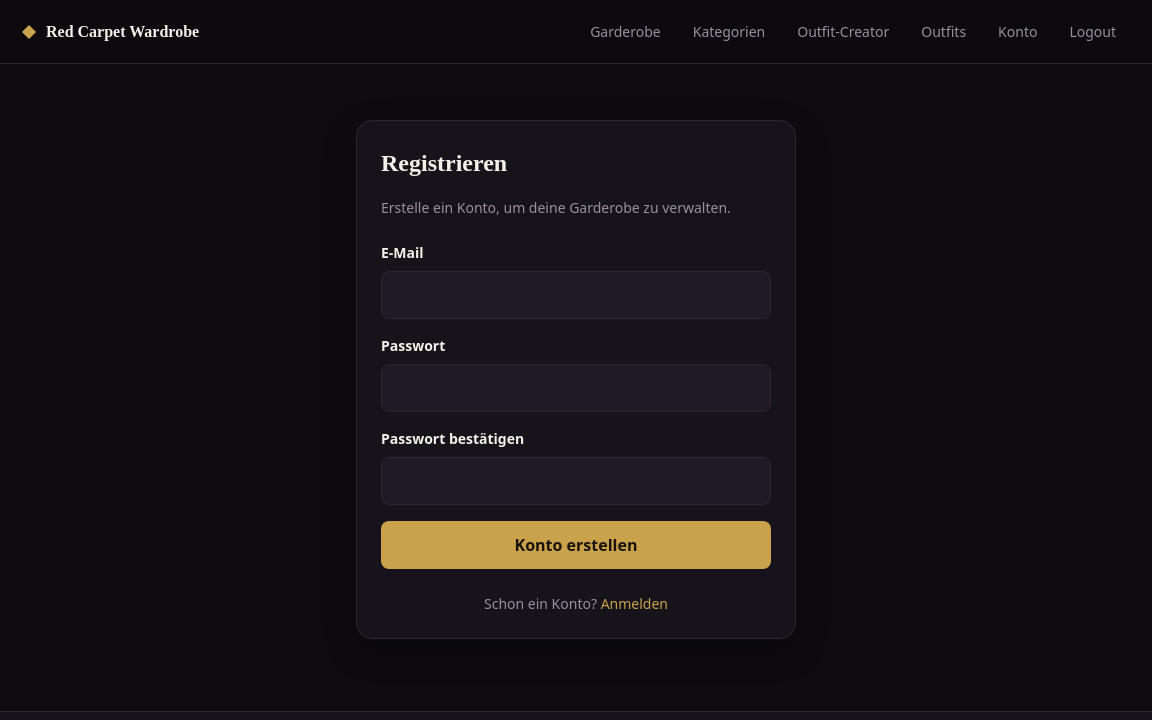
Test case: RegisterPage › registriert einen neuen Benutzer und leitet zur Garderobe weiter
Type "neu@example.com" into the field labelled "E-Mail" at (576, 295), box left=381, top=271, right=771, bottom=319
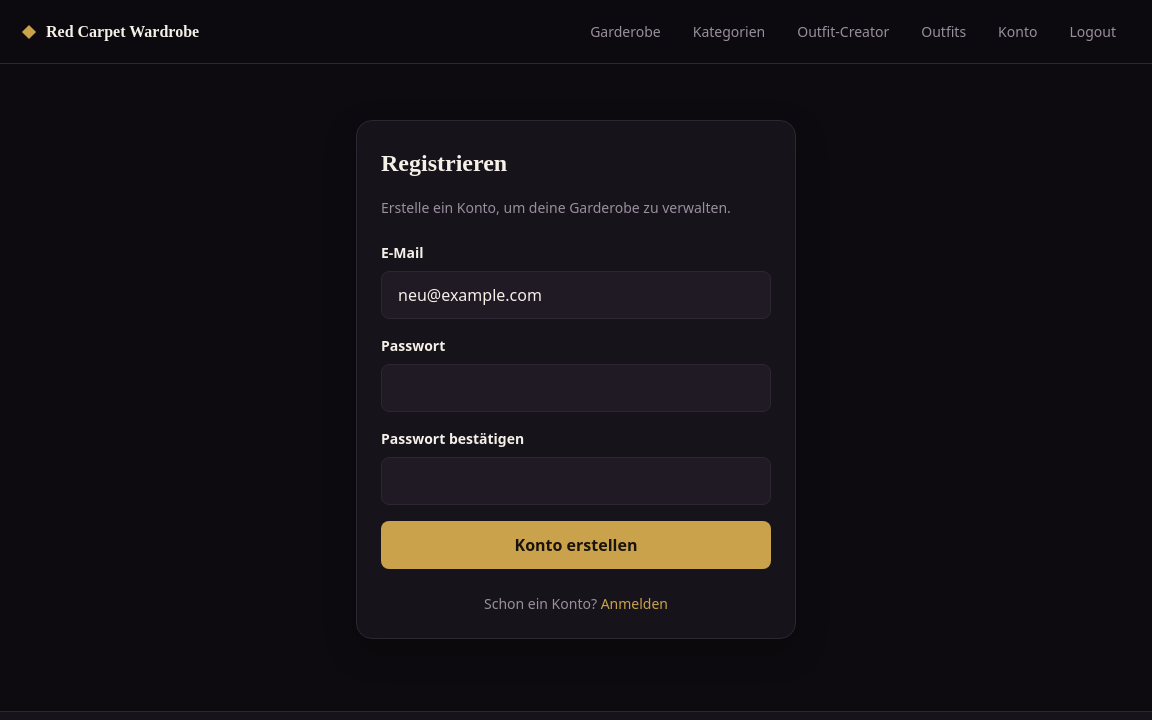
Type "geheim123" into the password field labelled "Passwort" at (576, 388), box left=381, top=364, right=771, bottom=412
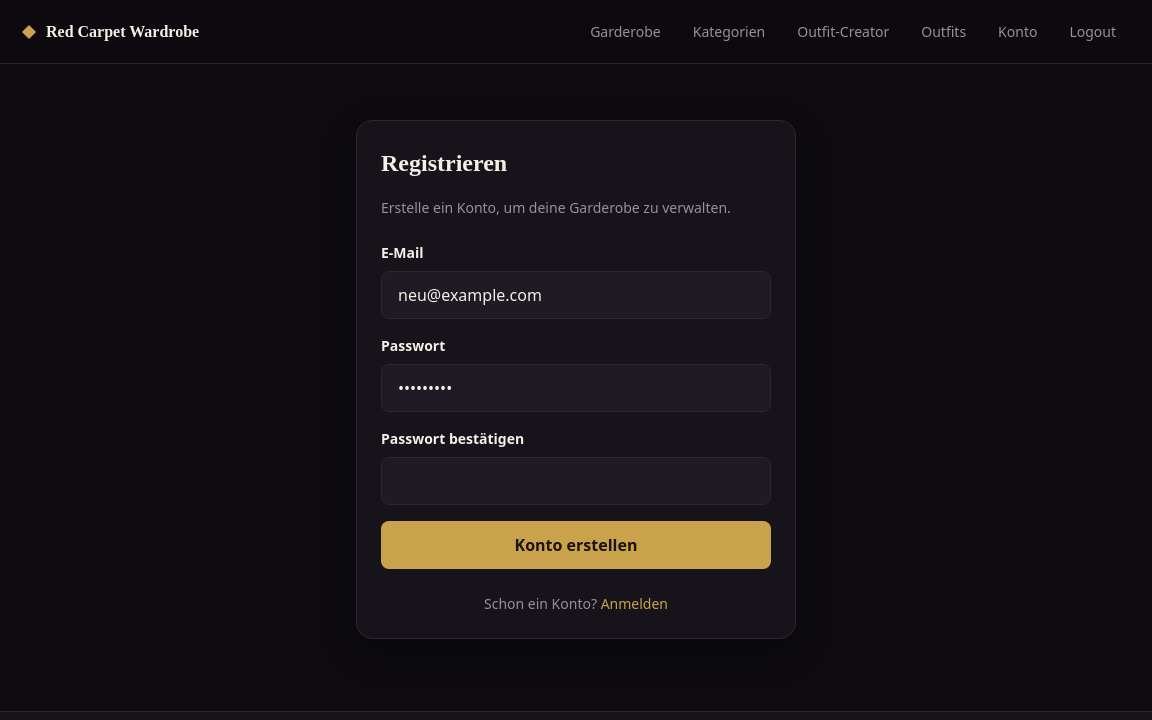
Type "geheim123" into the password field labelled "Passwort bestätigen" at (576, 481), box left=381, top=457, right=771, bottom=505
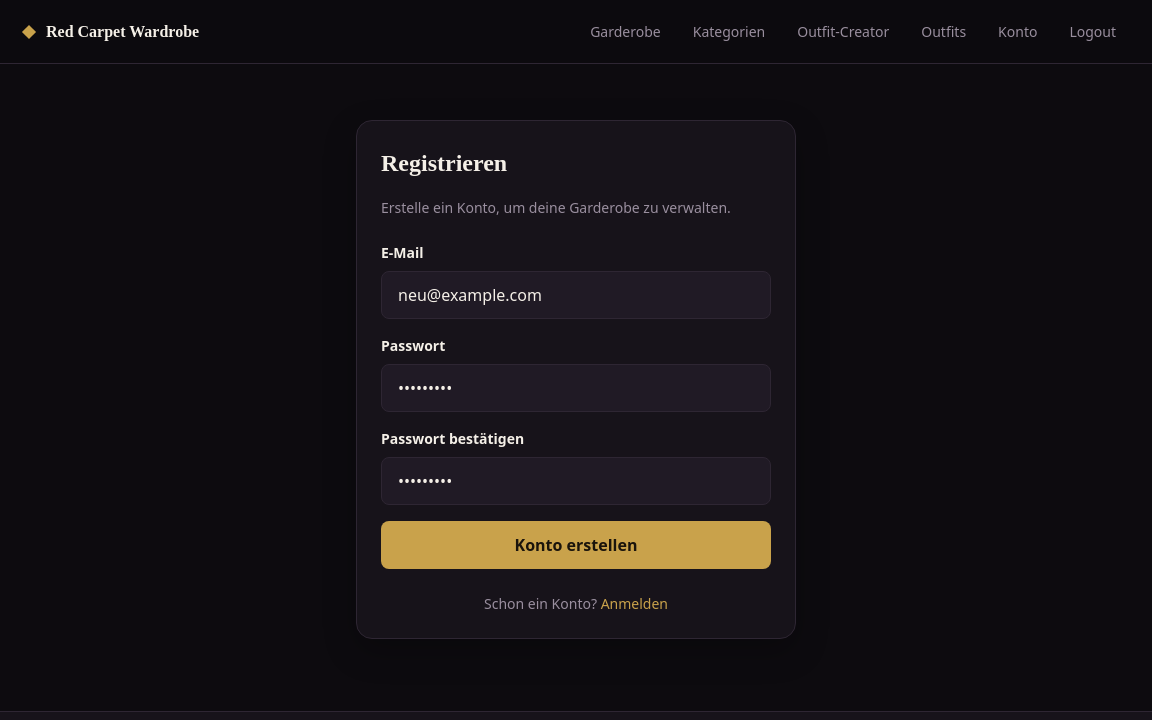
Click the button "Konto erstellen" at (576, 545), box left=381, top=521, right=771, bottom=569
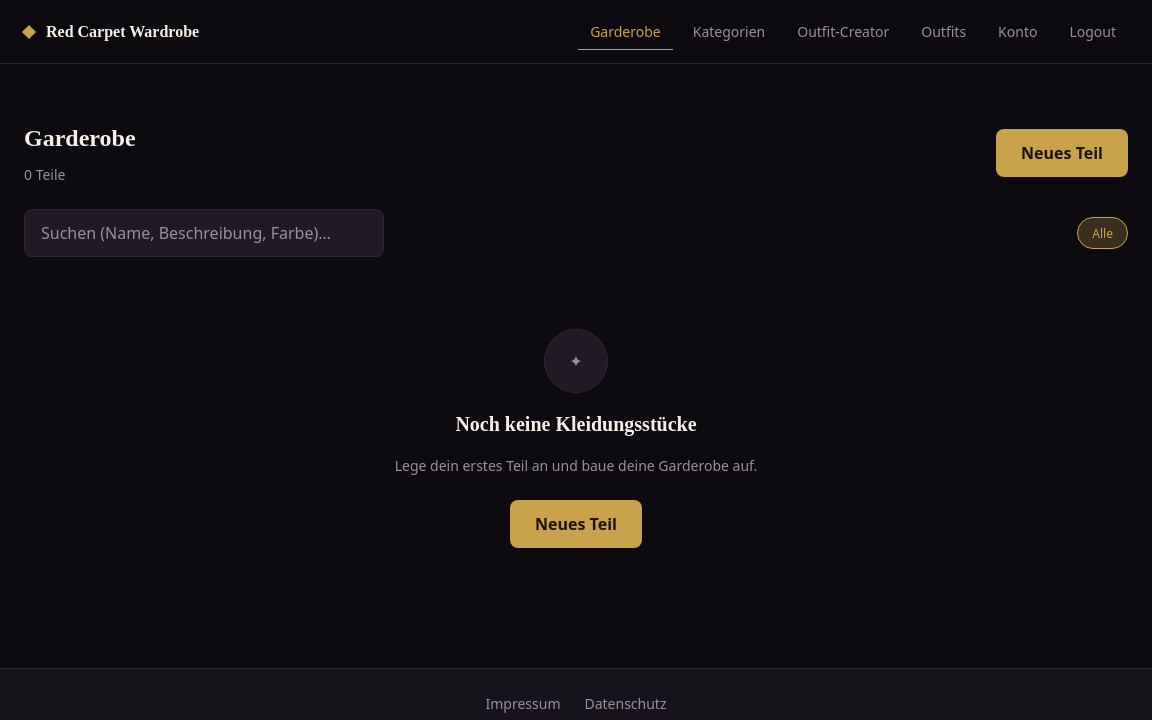
Check: the heading "Garderobe" is shown, box left=24, top=120, right=136, bottom=156
